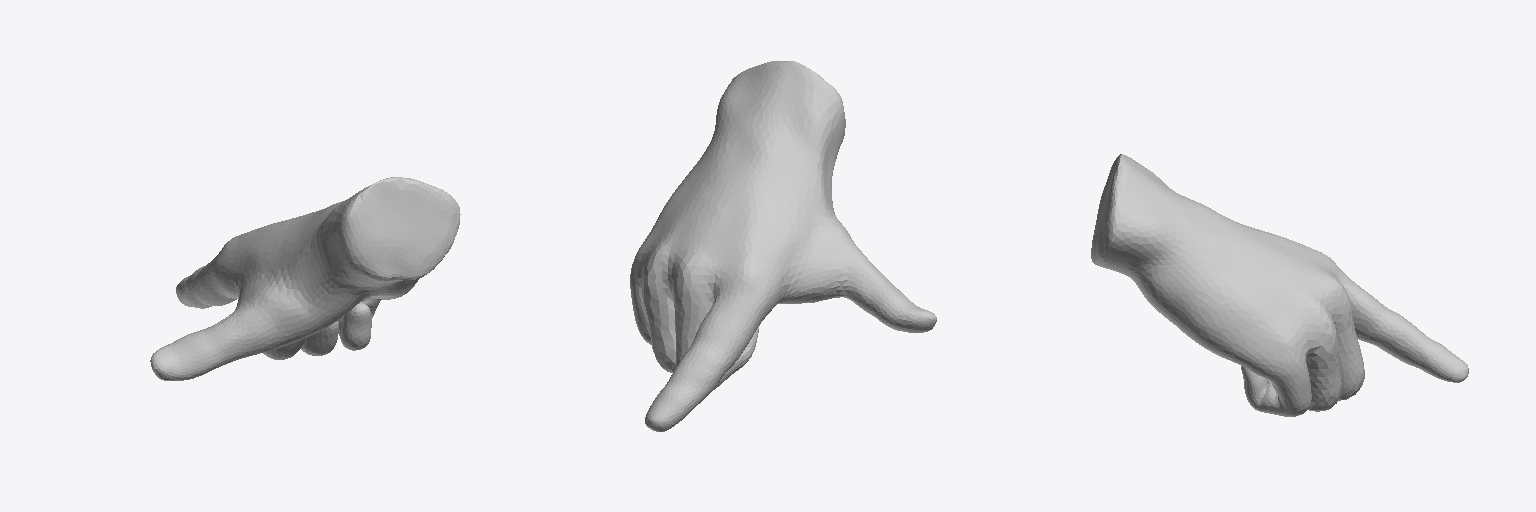
Rendered from hand.obj.
3 renders of one model, left to right at view 1: azimuth 30°, elevation 25°; view 2: azimuth 150°, elevation 25°; view 3: azimuth 270°, elevation 25°, orthographic.
Bounding box in the file's own units: 0.7667 × 0.6654 × 0.9241.